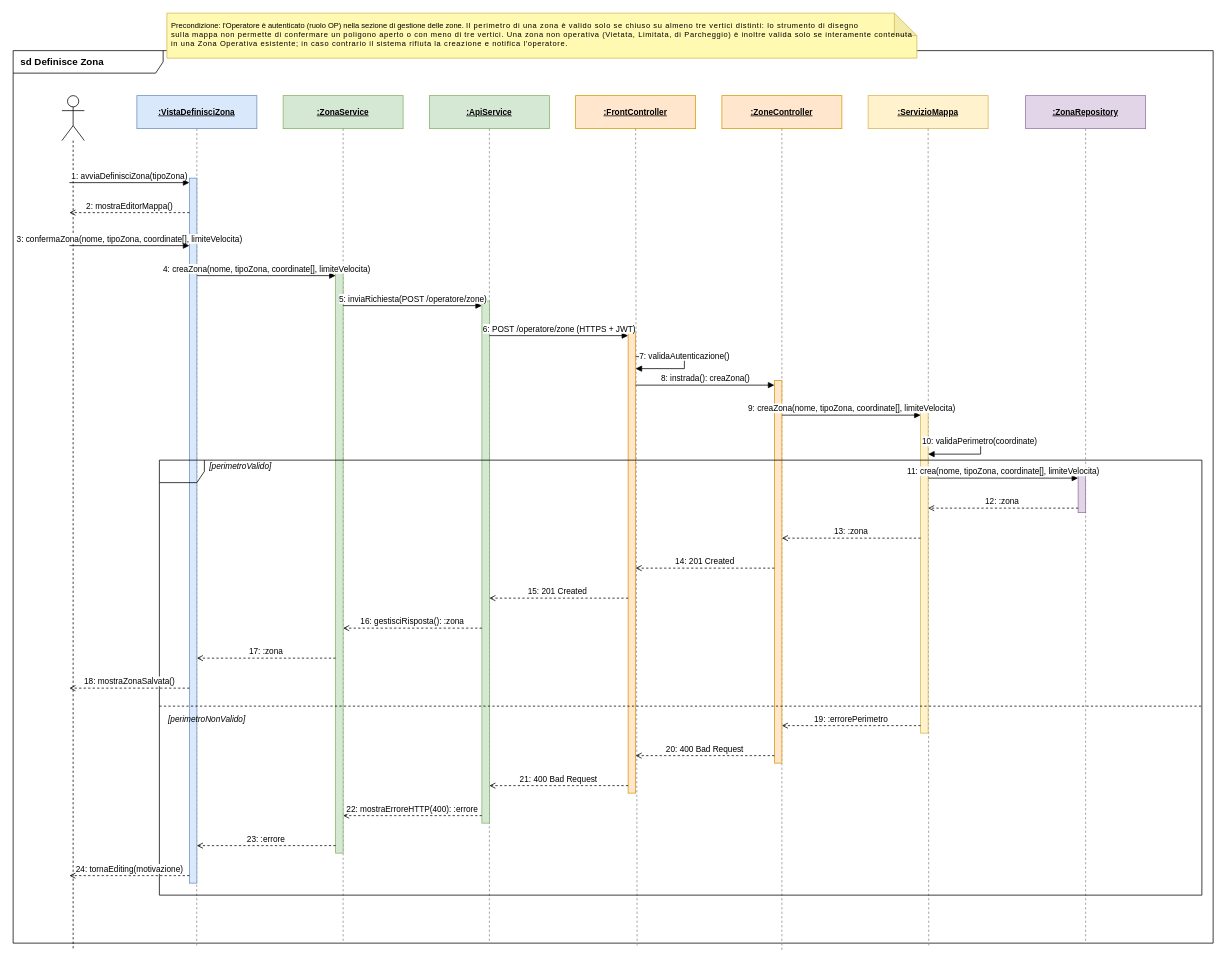
This 1226x965 diagram has some shape labels left out. The box of each missing label's shape, as (x1, y1, x2, y2) in pixels:
:Operatore: (61, 95, 84, 141)
alt: (159, 459, 1202, 895)
